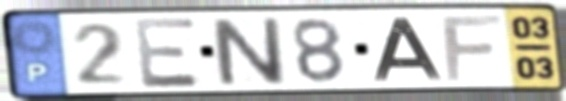2: (71, 21, 128, 87)
8: (289, 16, 348, 85)
A: (371, 15, 447, 82)
E: (131, 15, 205, 90)
F: (439, 13, 505, 83)
N: (206, 15, 290, 88)
